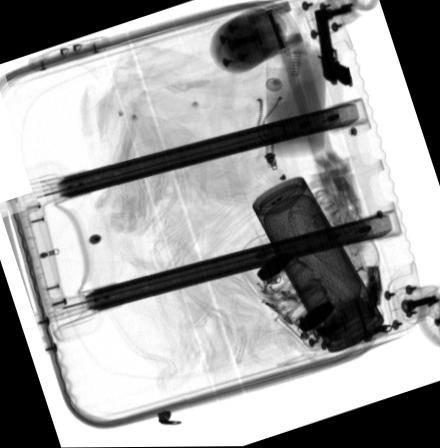Gun: (314, 11, 353, 89)
